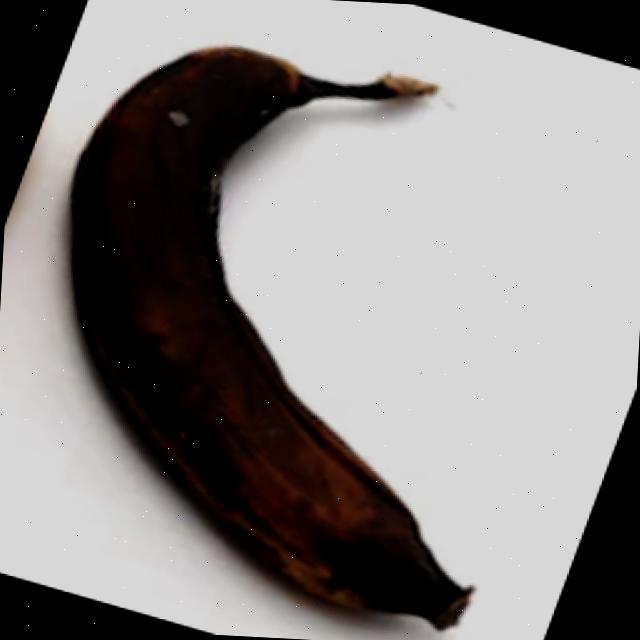rotten banana: (35, 34, 533, 640)
